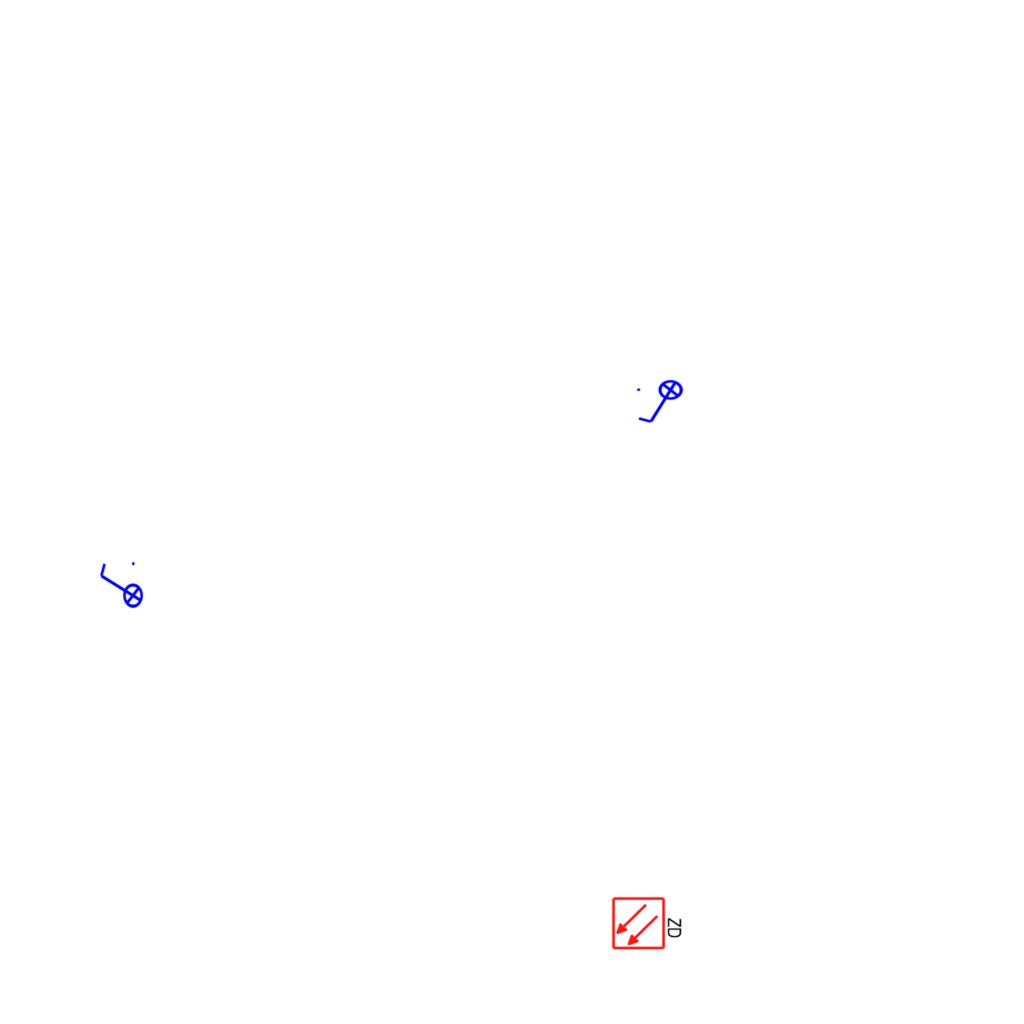Ausschalter_beleuchtet: (634, 379, 690, 427), (96, 559, 144, 615)
ZD_Melder_in_Zwischendecke_mit_Revisionsoeffnung_mind_40_x_40_cm: (611, 894, 685, 951)
